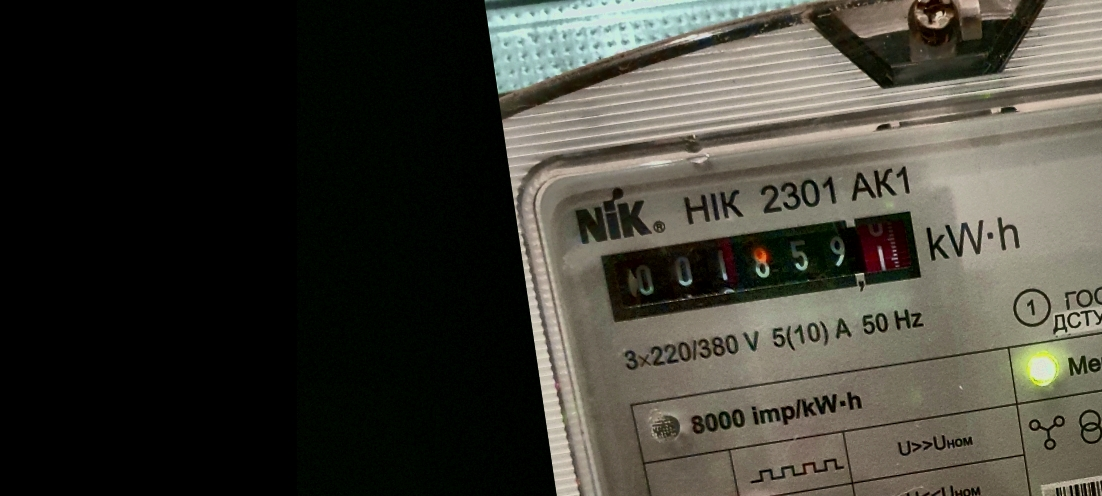0: (632, 260, 657, 298), (671, 252, 695, 288)
1: (714, 246, 730, 282), (873, 240, 889, 272)
5: (787, 235, 812, 273)
8: (749, 243, 774, 280)
9: (826, 231, 849, 268)
screen: (588, 196, 933, 333)
